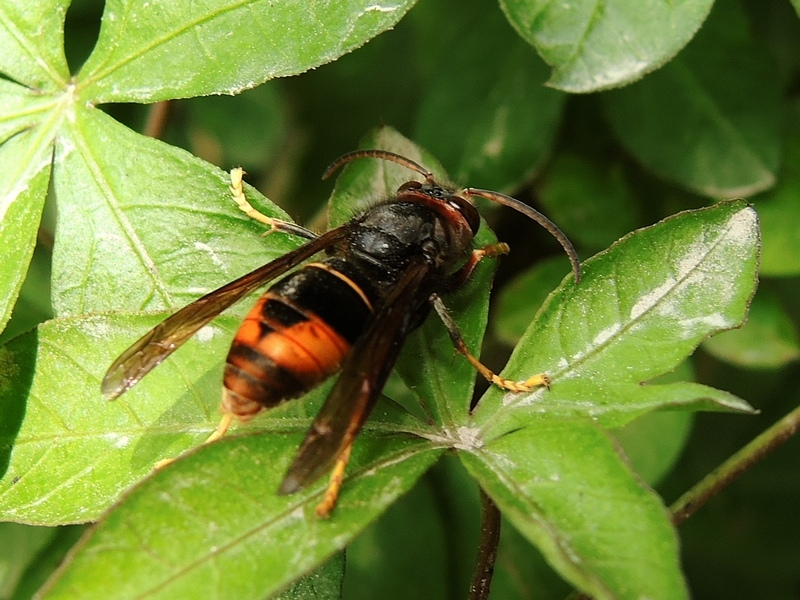hornet: (123, 144, 518, 463)
